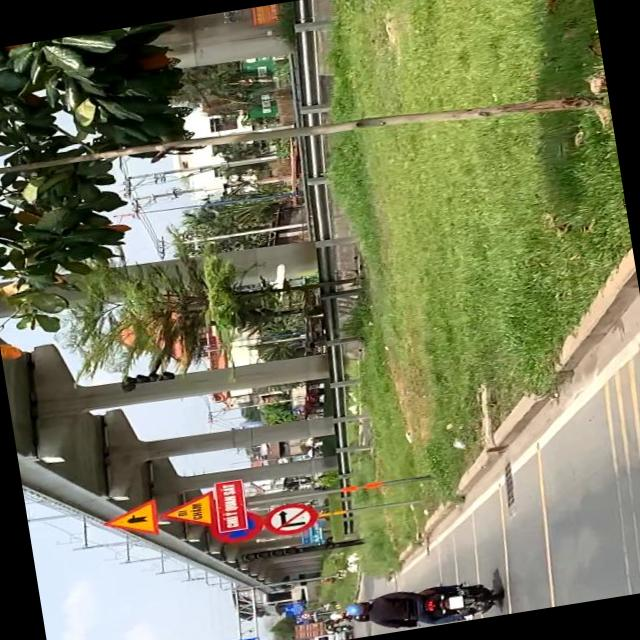P-123b: (265, 498, 318, 538)
W-207b: (100, 498, 158, 542)
W-245a: (158, 488, 219, 534)
